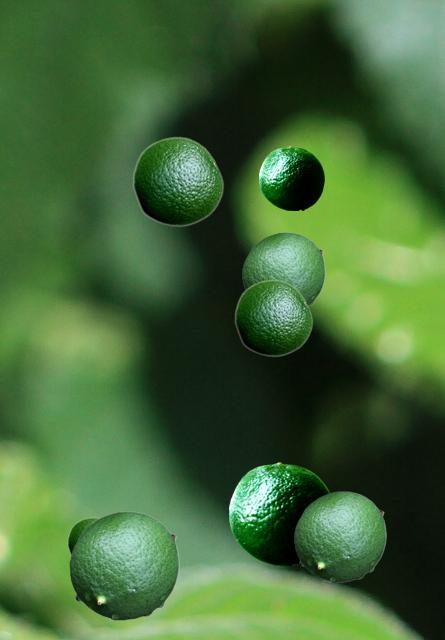calamansi: (69, 511, 178, 619), (229, 462, 329, 564), (132, 136, 223, 226), (294, 491, 385, 581), (234, 279, 312, 356), (242, 232, 324, 305), (259, 146, 323, 209), (67, 517, 98, 553)
